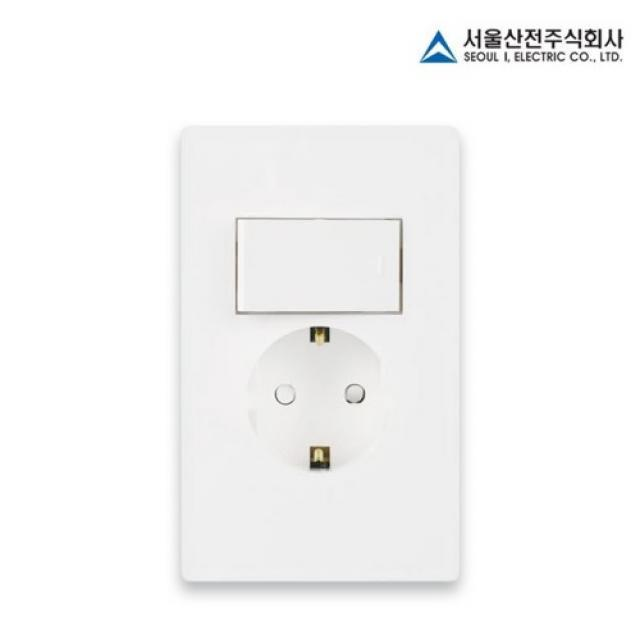typeb: (132, 105, 572, 627)
